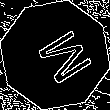M_SW: (22, 22, 88, 88)
